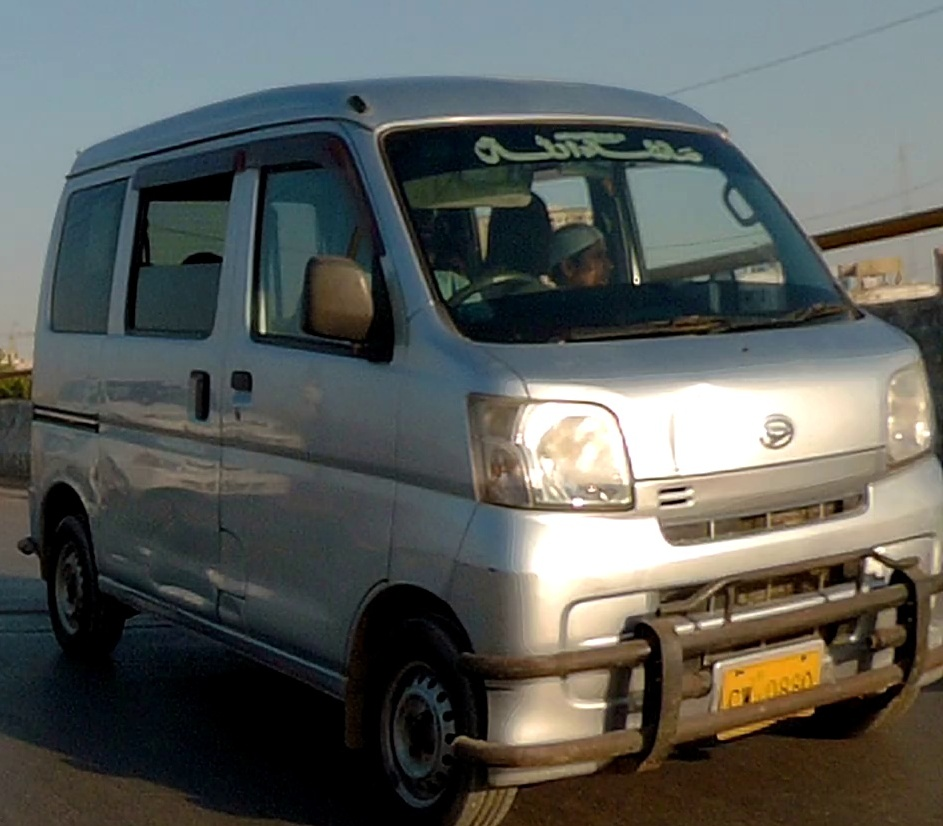van: (18, 75, 943, 826)
